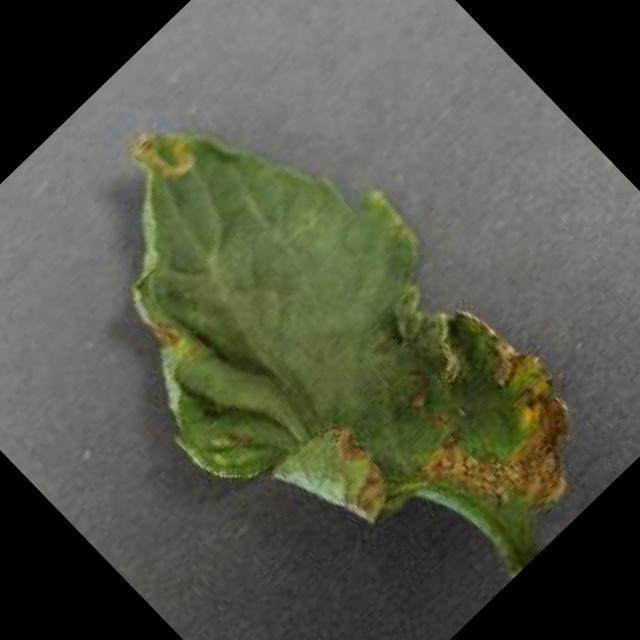Tomato bacterial spot leaf: (1, 38, 630, 640)
